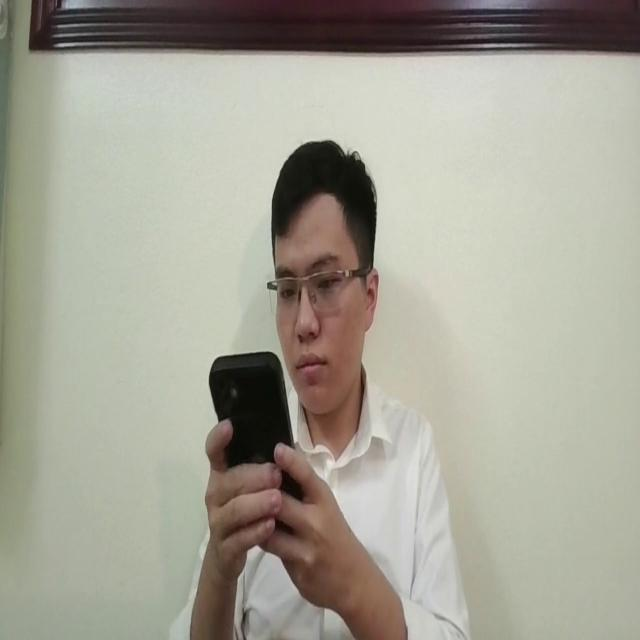phone: (207, 347, 312, 536)
student: (170, 133, 470, 640)
